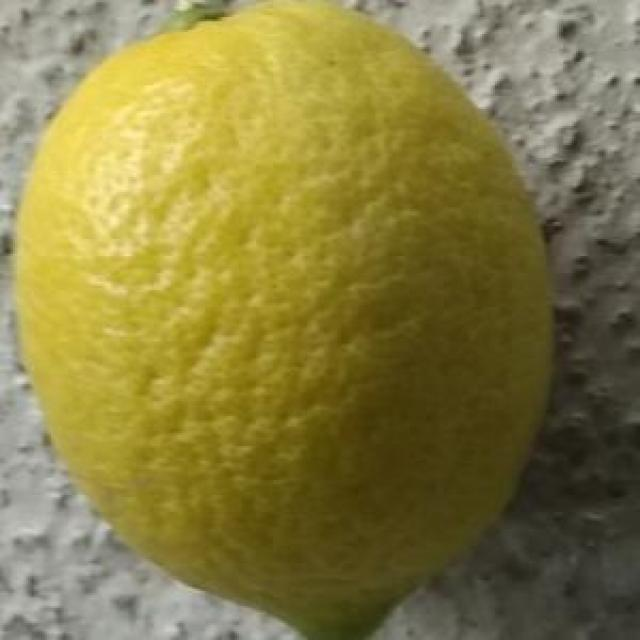lemon: (6, 2, 566, 636)
